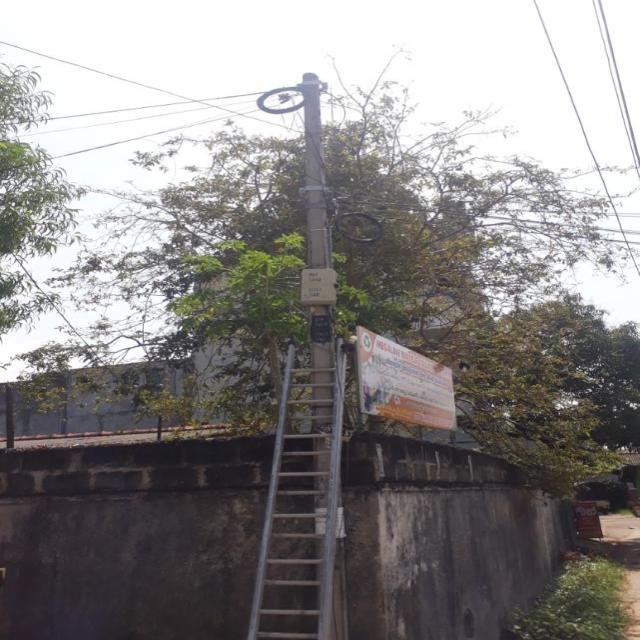light_pole: (289, 67, 351, 640)
